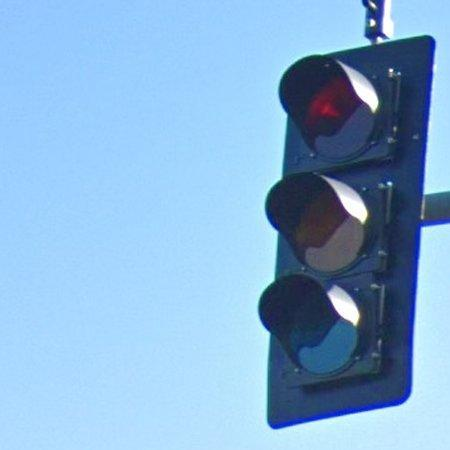traffic lights: (259, 34, 436, 429)
